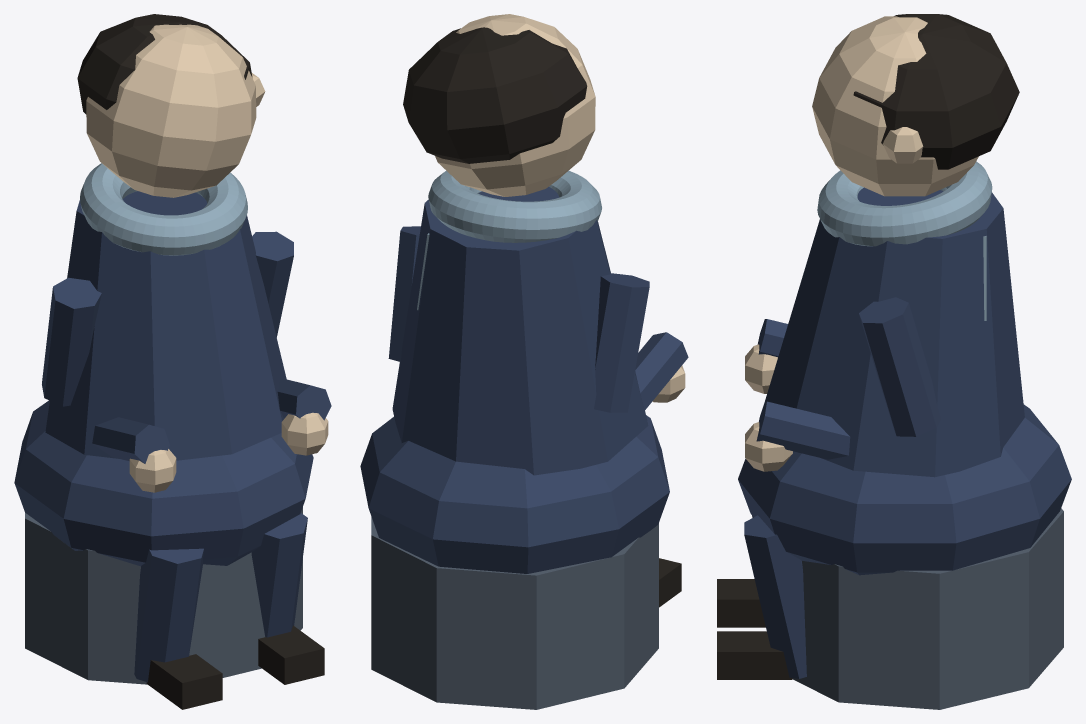
The model's file is listener.glb.
3 renders of one model, left to right at view 1: azimuth 30°, elevation 25°; view 2: azimuth 150°, elevation 25°; view 3: azimuth 270°, elevation 25°, orthographic. The views are drawn at different scales.
Visible parts, largest first — view 1: Cone, Sphere, Cylinder, Sphere.003, Torus, Cylinder.001, Cylinder.003, Sphere.004, Cylinder.002, Cube, Cube.001, Cylinder.004 (+4 smaller); view 2: Cone, Cylinder, Sphere, Sphere.004, Torus, Sphere.003, Cylinder.003, Cylinder.004, Cylinder.005, Cube, Sphere.001; view 3: Cone, Cylinder, Sphere, Sphere.004, Sphere.003, Torus, Cylinder.005, Cylinder.002, Cylinder.006, Cube.001, Cube, Sphere.002 (+3 smaller).
Boxes of the visible parts, x1=… form: Cone: x1=45, y1=191, x2=286, y2=460; Sphere: x1=14, y1=400, x2=313, y2=566; Cylinder: x1=25, y1=507, x2=302, y2=684; Sphere.003: x1=86, y1=24, x2=256, y2=197; Torus: x1=80, y1=163, x2=247, y2=255; Cylinder.001: x1=134, y1=548, x2=203, y2=682; Cylinder.003: x1=42, y1=277, x2=101, y2=406; Sphere.004: x1=77, y1=14, x2=252, y2=114; Cylinder.002: x1=251, y1=513, x2=307, y2=637; Cube: x1=146, y1=654, x2=222, y2=709; Cube.001: x1=258, y1=625, x2=324, y2=684; Cylinder.004: x1=92, y1=417, x2=169, y2=463; Cone: x1=392, y1=187, x2=648, y2=475; Cylinder: x1=371, y1=517, x2=658, y2=709; Sphere: x1=360, y1=415, x2=669, y2=573; Sphere.004: x1=403, y1=27, x2=587, y2=163; Torus: x1=428, y1=170, x2=601, y2=242; Sphere.003: x1=435, y1=14, x2=595, y2=196; Cylinder.003: x1=594, y1=273, x2=649, y2=412; Cylinder.004: x1=635, y1=332, x2=688, y2=410; Cylinder.005: x1=388, y1=226, x2=420, y2=361; Cube: x1=659, y1=558, x2=681, y2=607; Sphere.001: x1=652, y1=365, x2=685, y2=402; Cone: x1=765, y1=187, x2=1024, y2=477; Cylinder: x1=792, y1=508, x2=1063, y2=709; Sphere: x1=738, y1=404, x2=1071, y2=575; Sphere.004: x1=853, y1=14, x2=1019, y2=169; Sphere.003: x1=812, y1=16, x2=978, y2=196; Torus: x1=817, y1=161, x2=992, y2=246; Cylinder.005: x1=859, y1=297, x2=940, y2=436; Cylinder.002: x1=744, y1=515, x2=806, y2=678; Cylinder.006: x1=756, y1=401, x2=850, y2=459; Cube.001: x1=717, y1=631, x2=792, y2=679; Cube: x1=717, y1=579, x2=765, y2=627; Sphere.002: x1=745, y1=422, x2=792, y2=471.
Bounding box in the file's own units: 0.6848 × 1.57 × 0.803.
